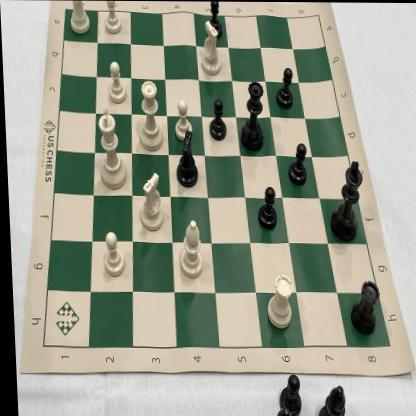black-king: (323, 157, 364, 243)
black-knight: (172, 130, 201, 189)
black-pawn: (253, 184, 277, 231), (284, 142, 307, 187), (205, 98, 228, 143), (274, 67, 295, 112), (203, 1, 224, 40)
black-queen: (236, 76, 267, 155)
black-rook: (343, 277, 381, 338)
white-bishop: (174, 217, 202, 279)
white-king: (93, 107, 128, 192)
white-knight: (135, 172, 166, 233), (198, 19, 223, 77)
white-pawn: (97, 227, 124, 278), (170, 96, 192, 141), (106, 59, 127, 106), (100, 1, 124, 37)
white-queen: (135, 78, 164, 154)
white-rook: (259, 268, 293, 330), (67, 0, 94, 40)
